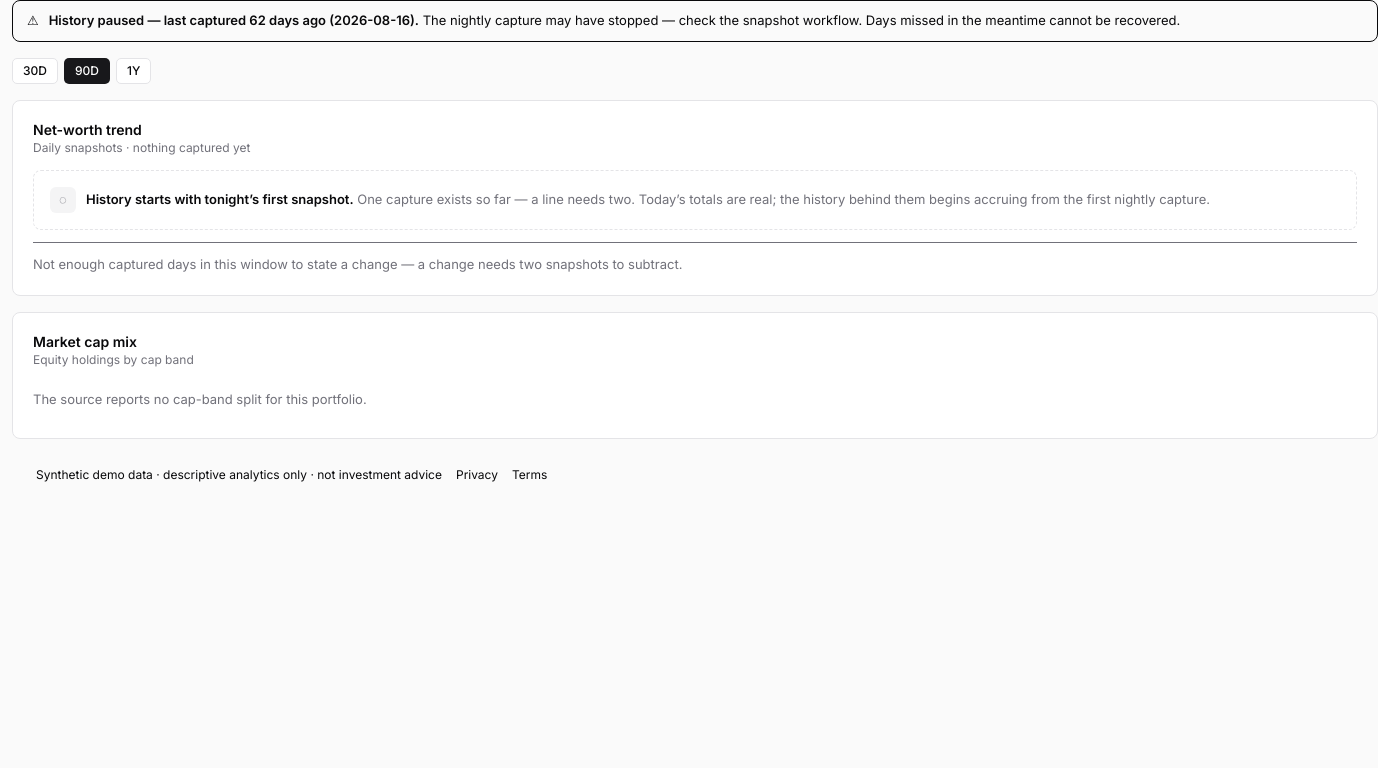
Test: performance windows › states a window it cannot subtract instead of inventing a change
Expected: the button "90D" is shown, [64,58,110,84]
Expected: the text "Not enough captured days in this window" is shown, [33,256,682,272]
Click the button "1Y" at (134, 70), box [116,58,151,84]
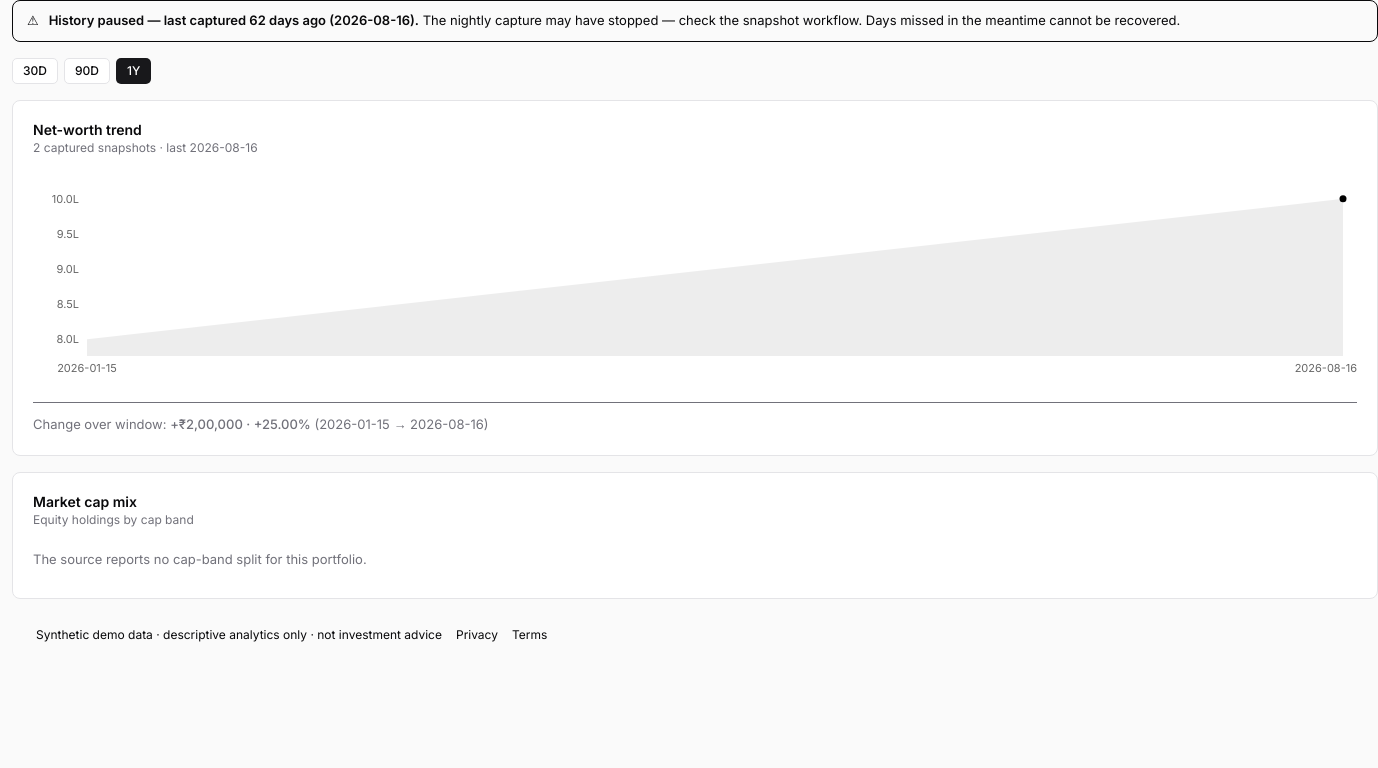
Result: the text "+₹2,00,000 · +25.00%" is shown at [170,416,311,432]
